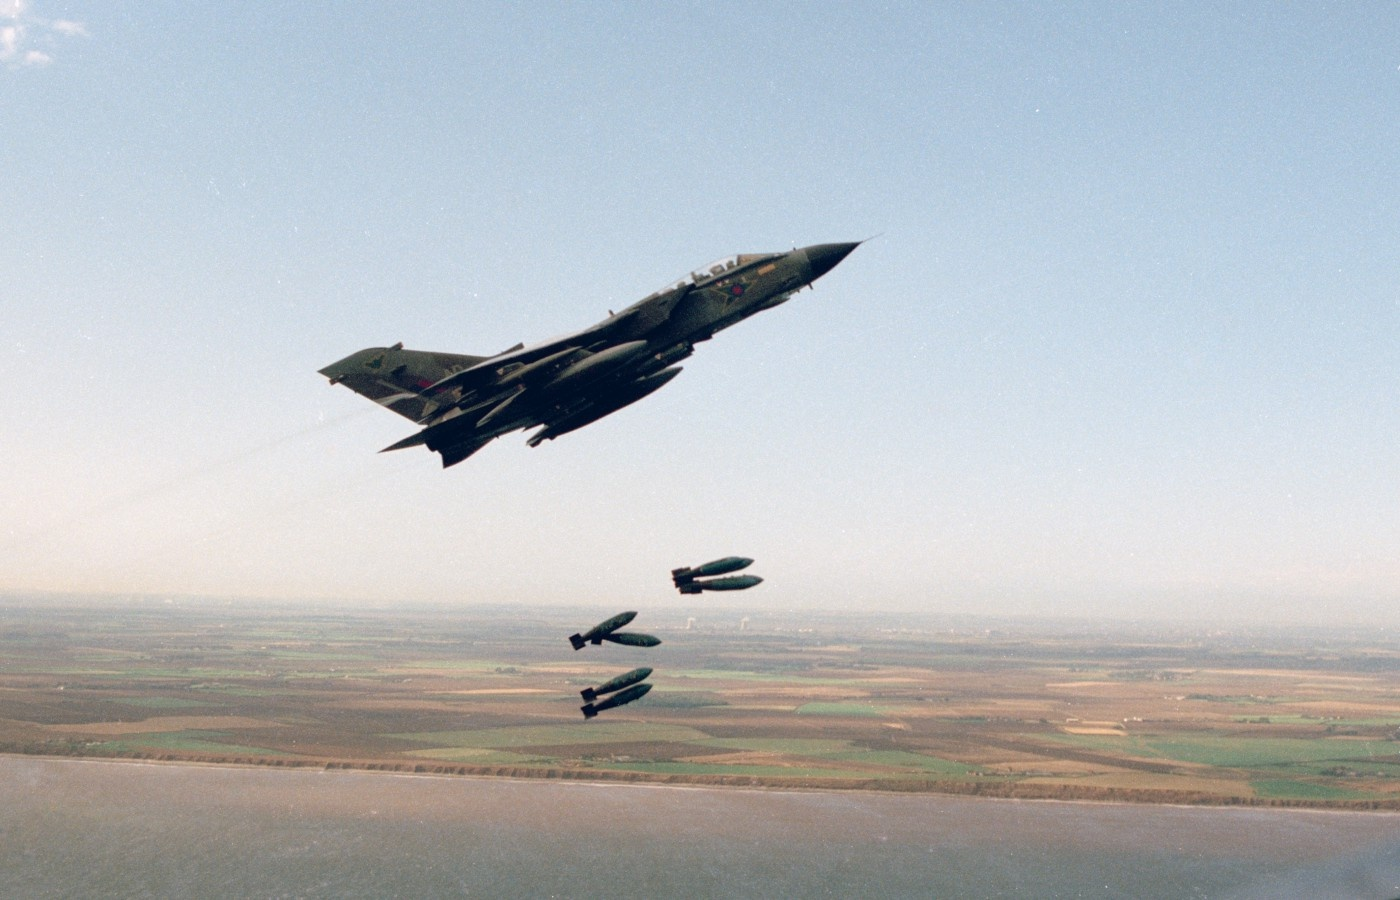Tornado: (316, 231, 885, 470)
